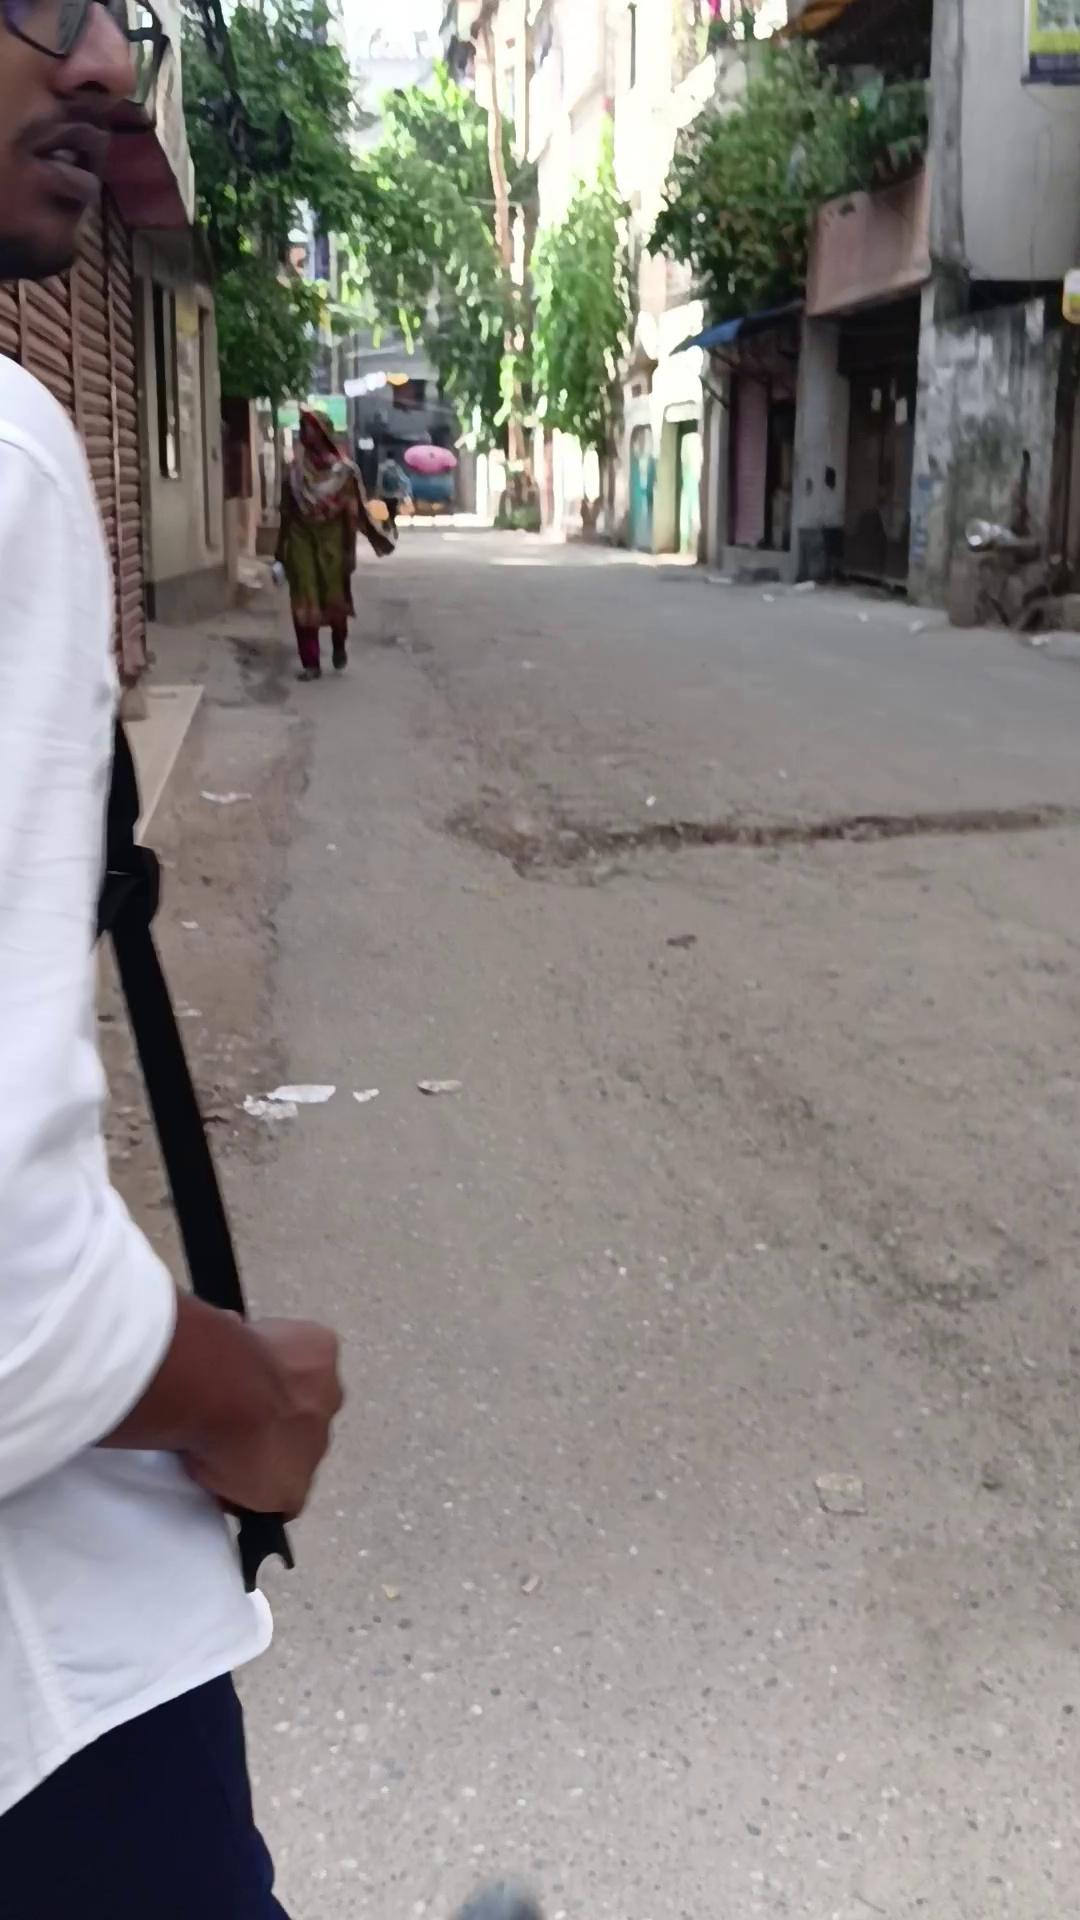Broken-road: (438, 778, 1080, 893)
Crosswalk: (117, 679, 206, 847)
Muddy road: (0, 1, 345, 1917), (272, 407, 396, 680), (375, 444, 414, 541)
